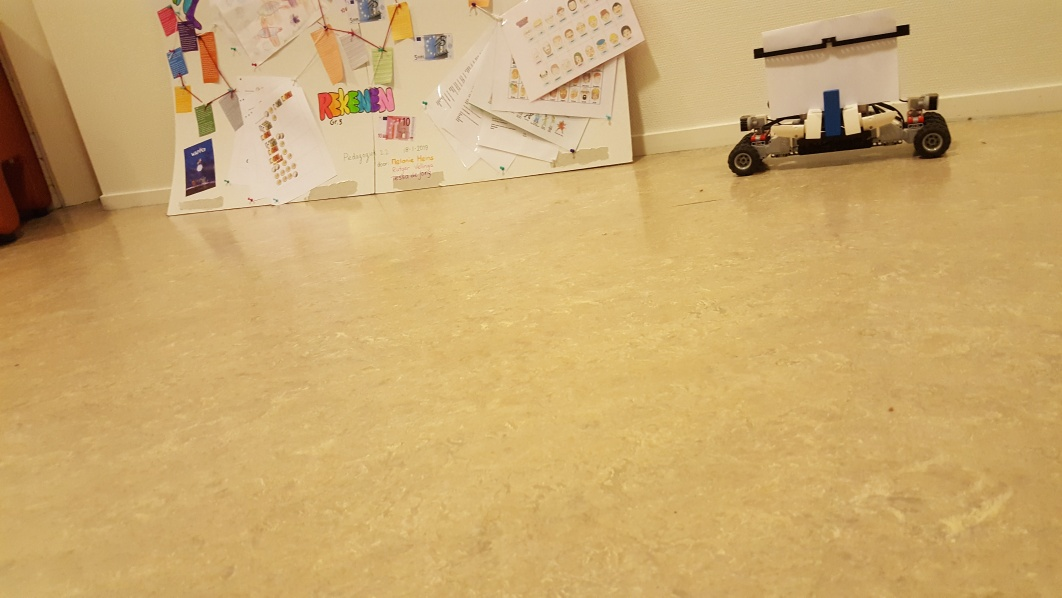car: (724, 4, 949, 186)
